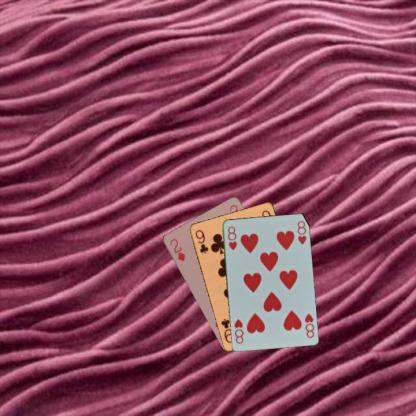2d: (167, 236, 186, 262)
8h: (302, 311, 316, 339), (225, 224, 238, 251)
9c: (192, 227, 210, 255)
